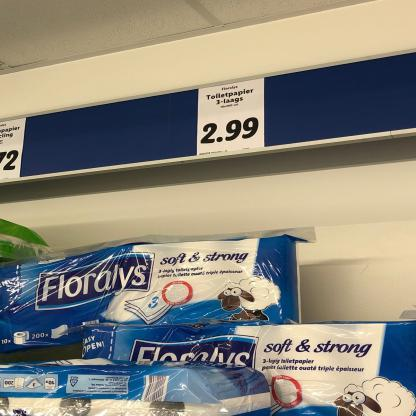prtg: (198, 79, 265, 156), (1, 119, 27, 181)
